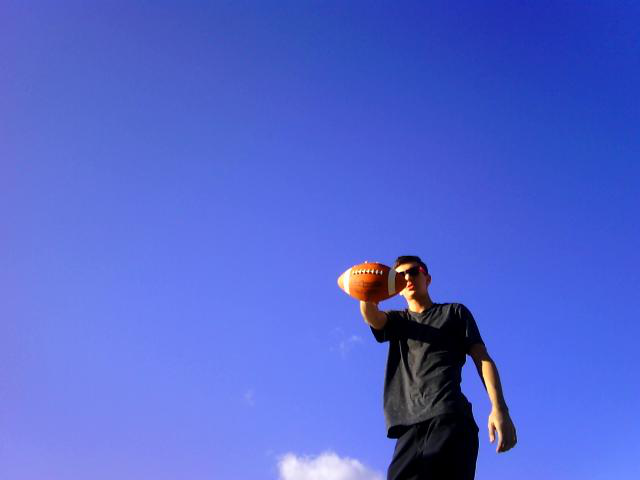football: (328, 259, 422, 307)
